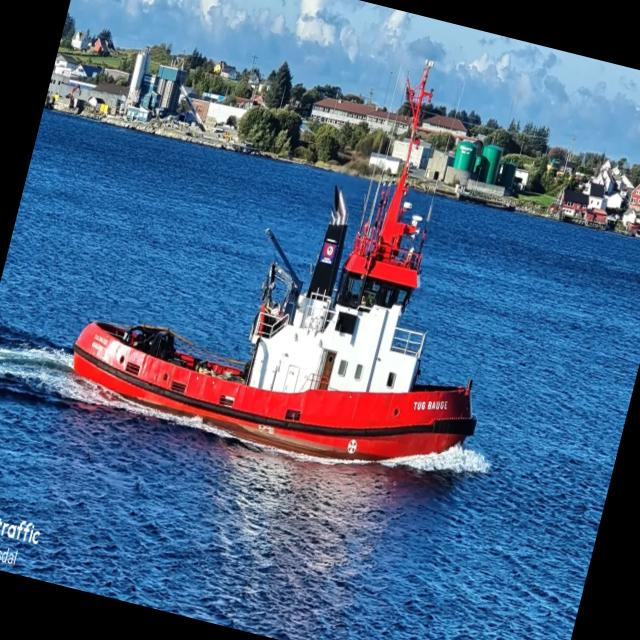Tug: (73, 61, 475, 460)
